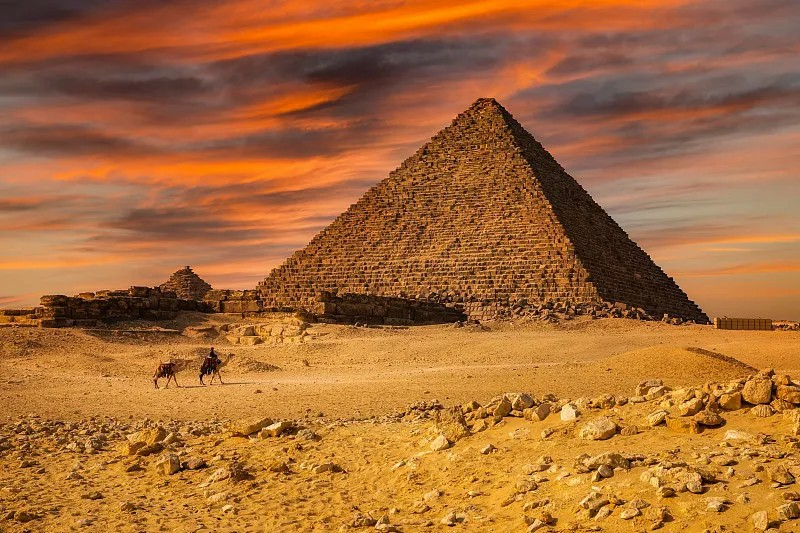Pyramid: (252, 96, 713, 326)
